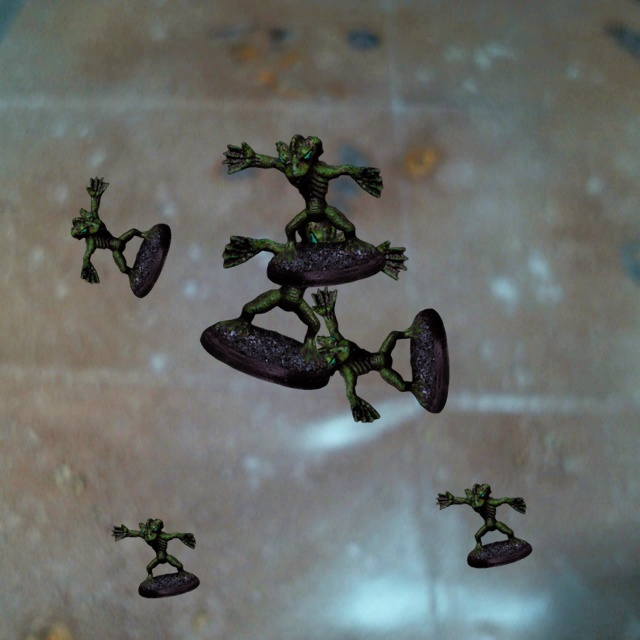pieza_juego: (200, 216, 408, 389), (222, 134, 385, 287), (311, 286, 449, 422), (71, 177, 171, 297), (436, 483, 532, 568), (111, 518, 199, 598)
